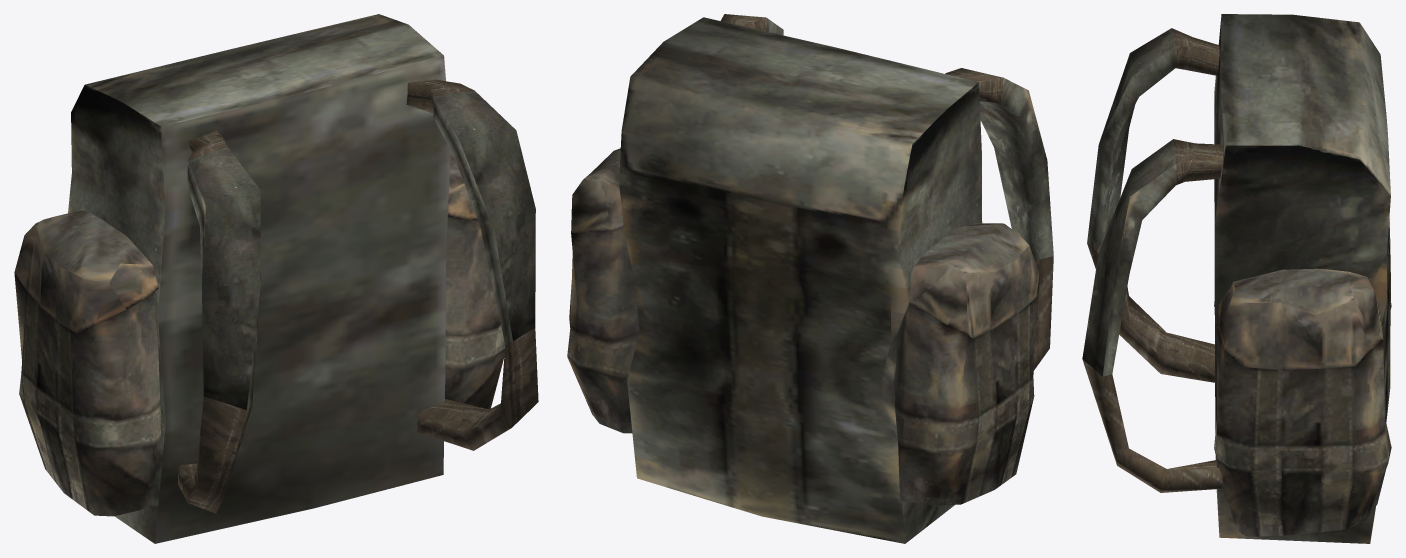
File: Bag_HR_Ground.fbx
3 views of the same model, side by side, from view 1: azimuth 30°, elevation 25°; view 2: azimuth 150°, elevation 25°; view 3: azimuth 270°, elevation 25° (orthographic). The views are drawn at different scales.
Parts seen in each view (by area): view 1: Body; view 2: Body; view 3: Body.
Part boxes in pixels (bbox=[...]): Body: bbox=[14, 14, 538, 543]; Body: bbox=[567, 14, 1053, 543]; Body: bbox=[1082, 14, 1391, 543].
Bounding box in the file's own units: 0.2672 × 0.2533 × 0.1749.
